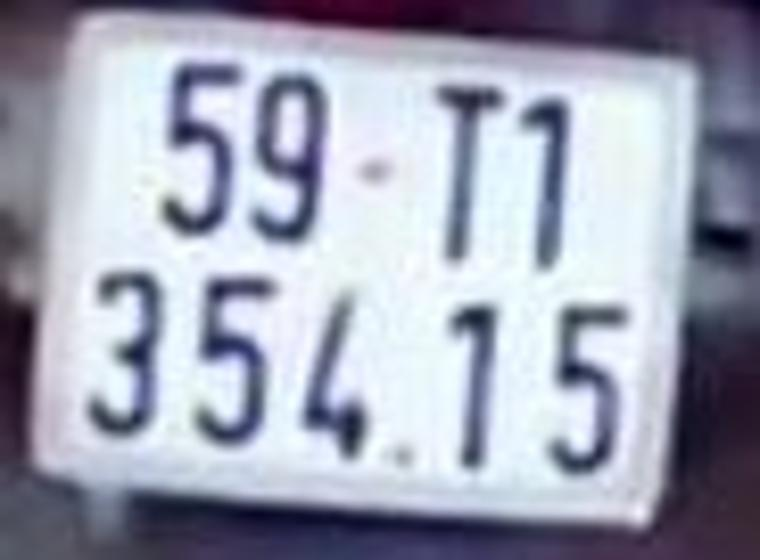-: (347, 157, 397, 183)
.: (391, 444, 415, 469)
1: (445, 304, 493, 469), (525, 90, 567, 270)
3: (93, 264, 161, 437)
4: (302, 282, 369, 459)
5: (549, 299, 629, 479), (166, 57, 237, 242), (195, 276, 269, 452)
9: (251, 72, 327, 243)
T: (433, 80, 499, 263)
